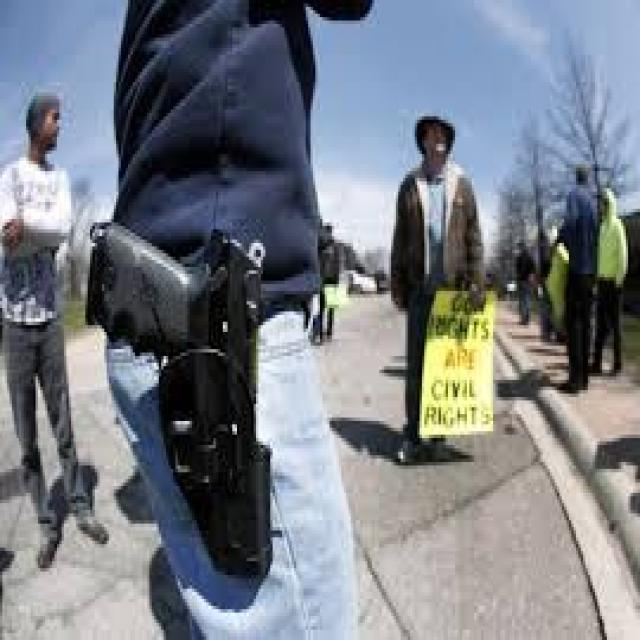gun: (66, 192, 304, 596)
